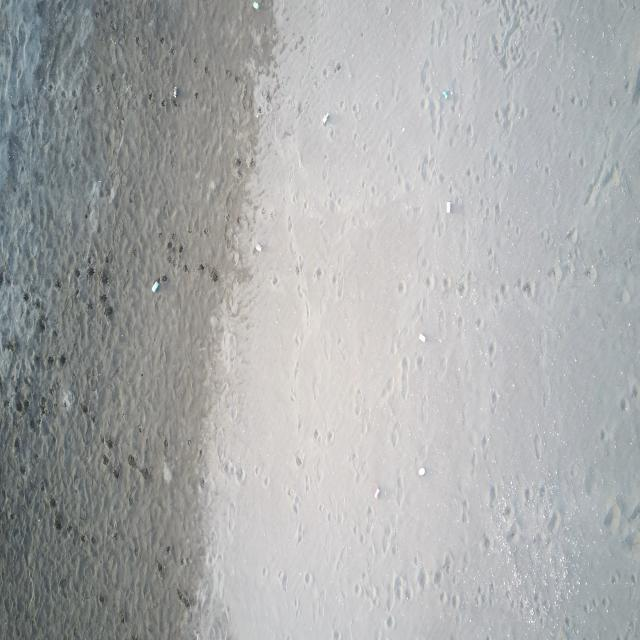tin-and-aluminum-cans: (150, 279, 160, 294), (322, 112, 330, 125), (418, 333, 427, 343), (252, 0, 260, 11), (374, 487, 380, 500), (256, 242, 262, 254), (418, 466, 425, 476), (173, 85, 178, 99), (446, 200, 451, 214)
